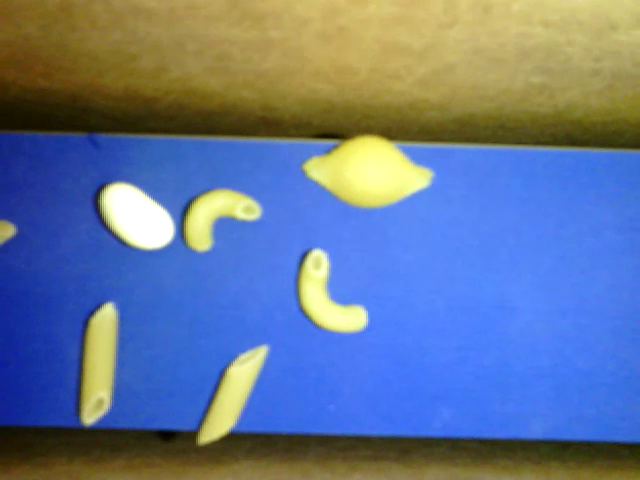elbow: (297, 248, 369, 333), (183, 188, 262, 253)
penne: (197, 343, 269, 445), (78, 301, 118, 427)
shell: (300, 134, 435, 206)
